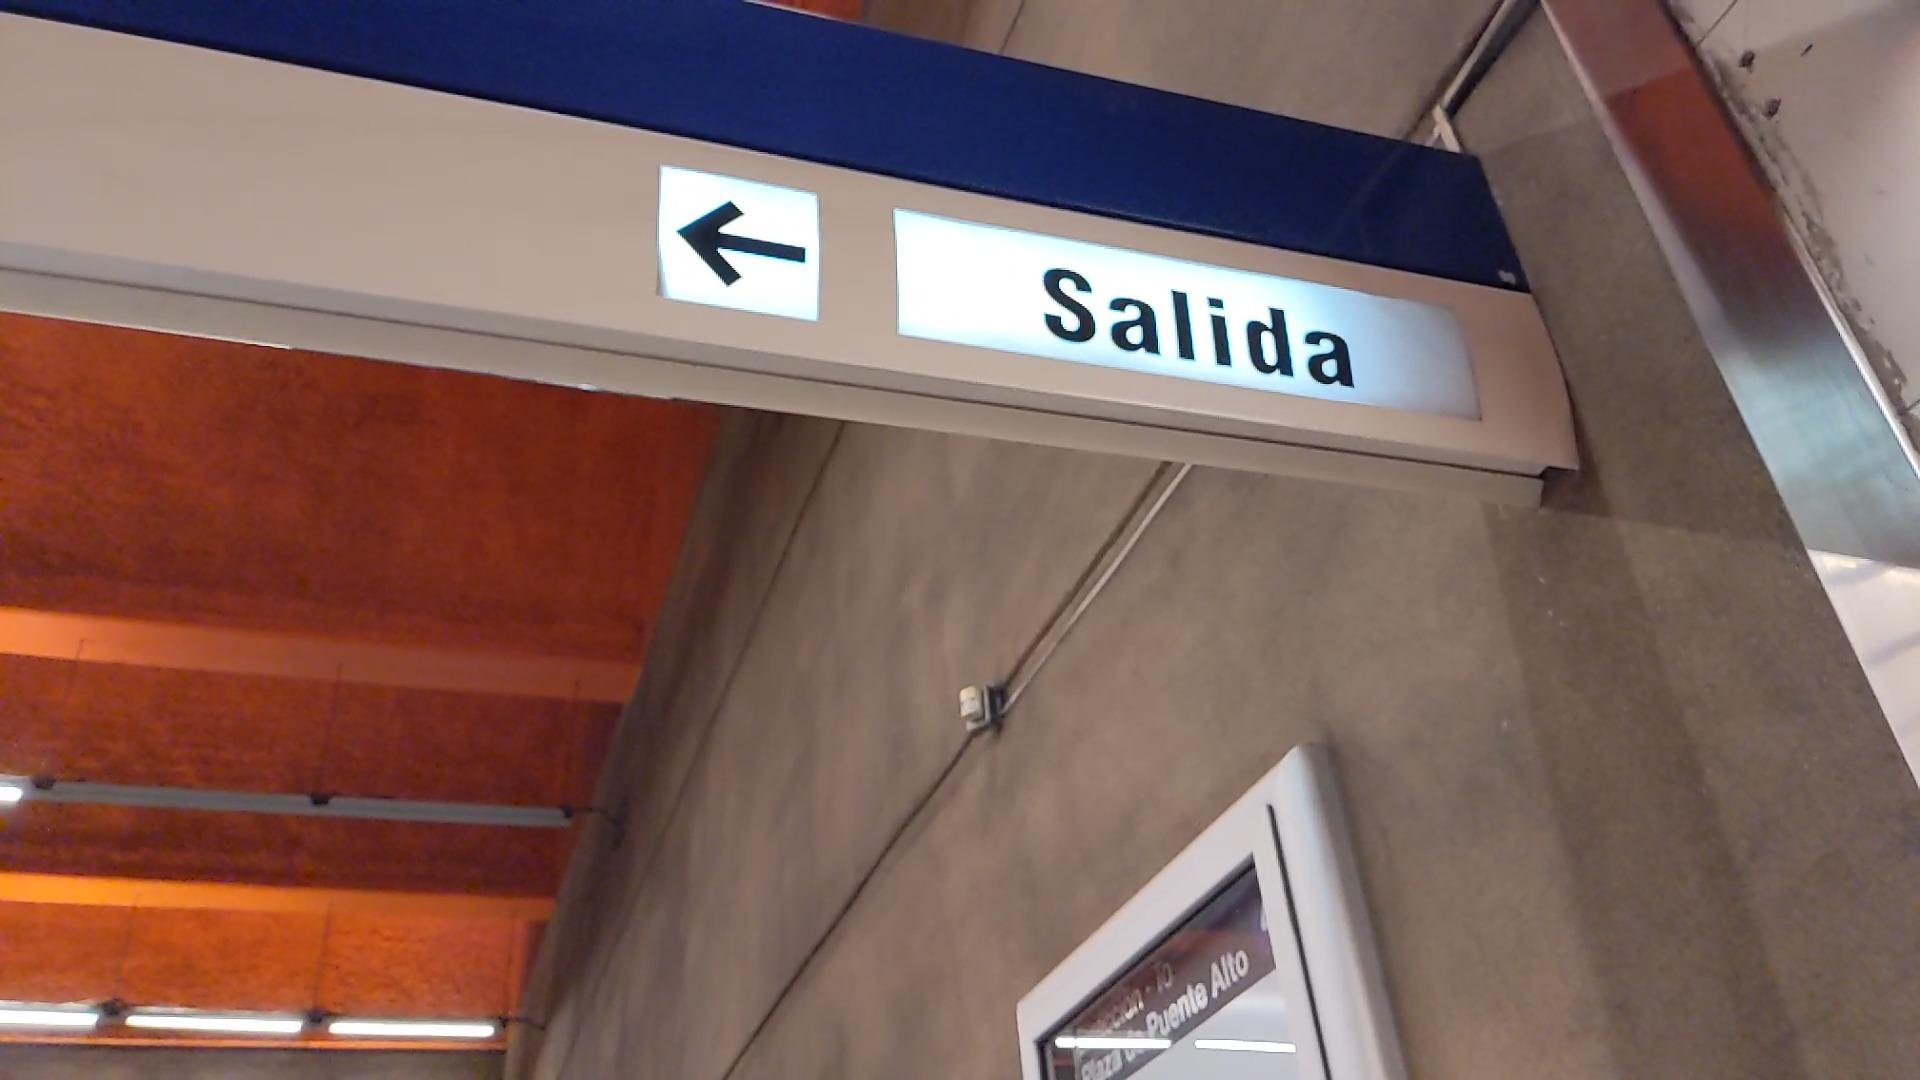left arrow: (671, 195, 811, 295)
